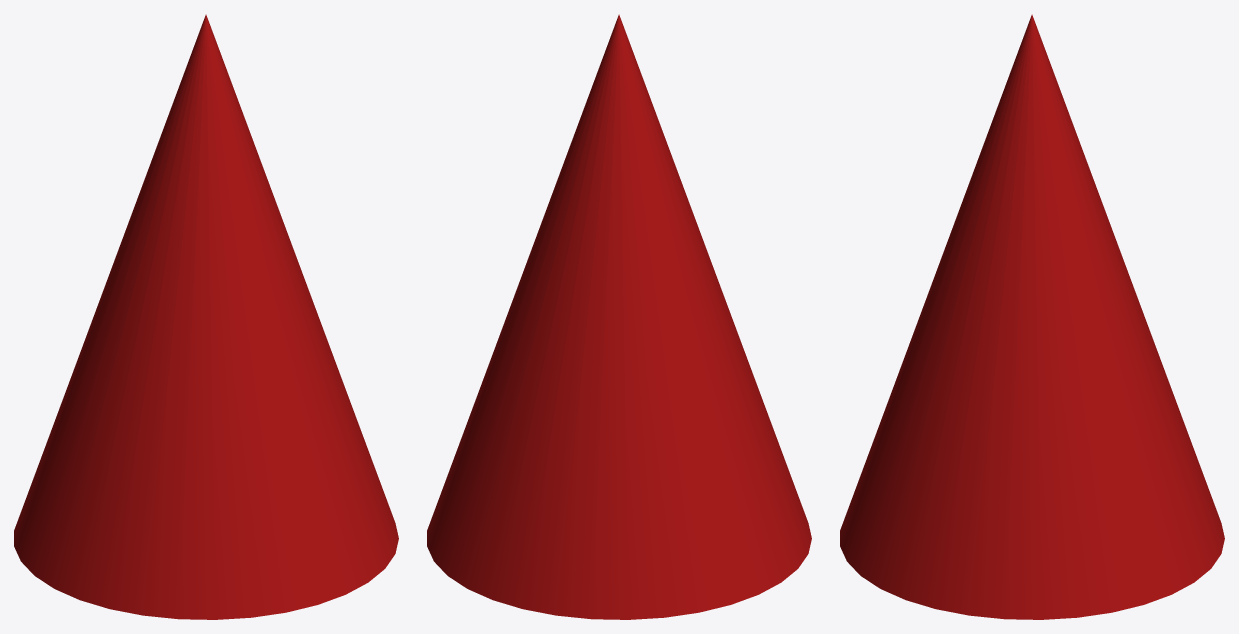
The picture shows the model from 3 angles, left to right: view 1: azimuth 30°, elevation 25°; view 2: azimuth 150°, elevation 25°; view 3: azimuth 270°, elevation 25°; orthographic projection.
Visible parts, largest first — view 1: Part; view 2: Part; view 3: Part.
Part boxes in pixels (x1,y1,x2,y2): Part: (14, 14, 398, 619); Part: (427, 14, 811, 619); Part: (840, 14, 1224, 619).
Bounding box in the file's own units: 0.0507 × 0.0762 × 0.0507.
